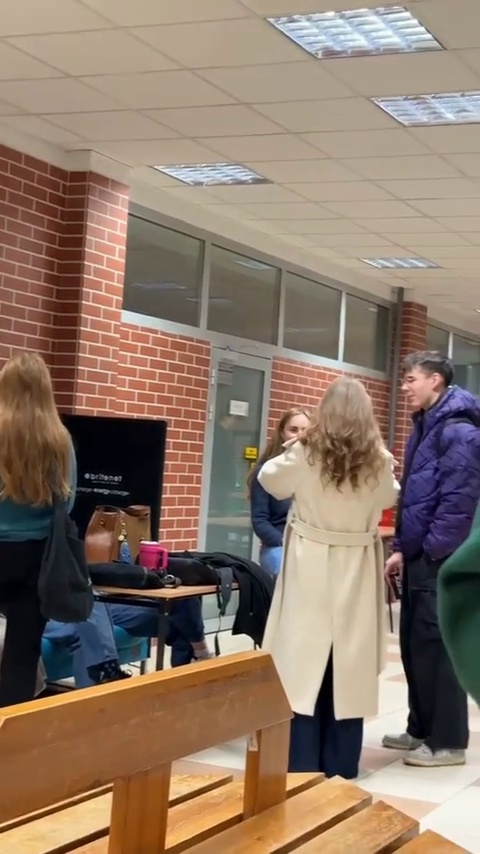no vest: (258, 364, 391, 730), (0, 353, 100, 707), (396, 333, 478, 723)
